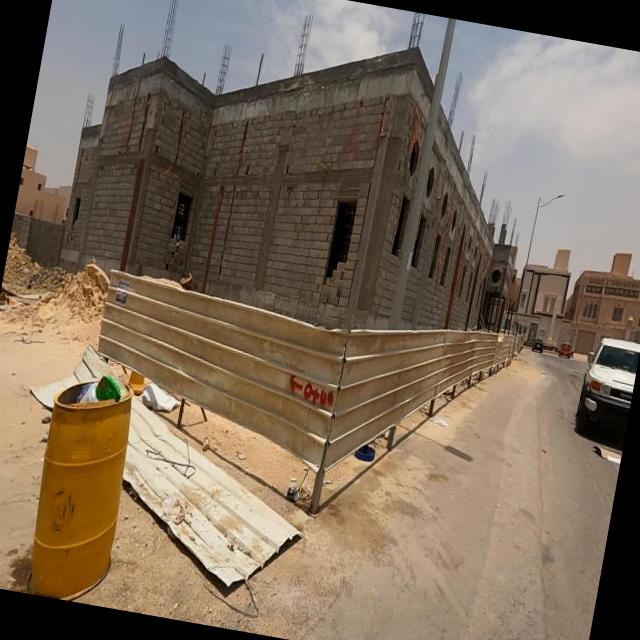debris: (14, 281, 373, 640), (9, 302, 172, 483), (253, 420, 353, 546), (327, 389, 413, 508), (567, 408, 628, 497), (416, 384, 468, 451)
